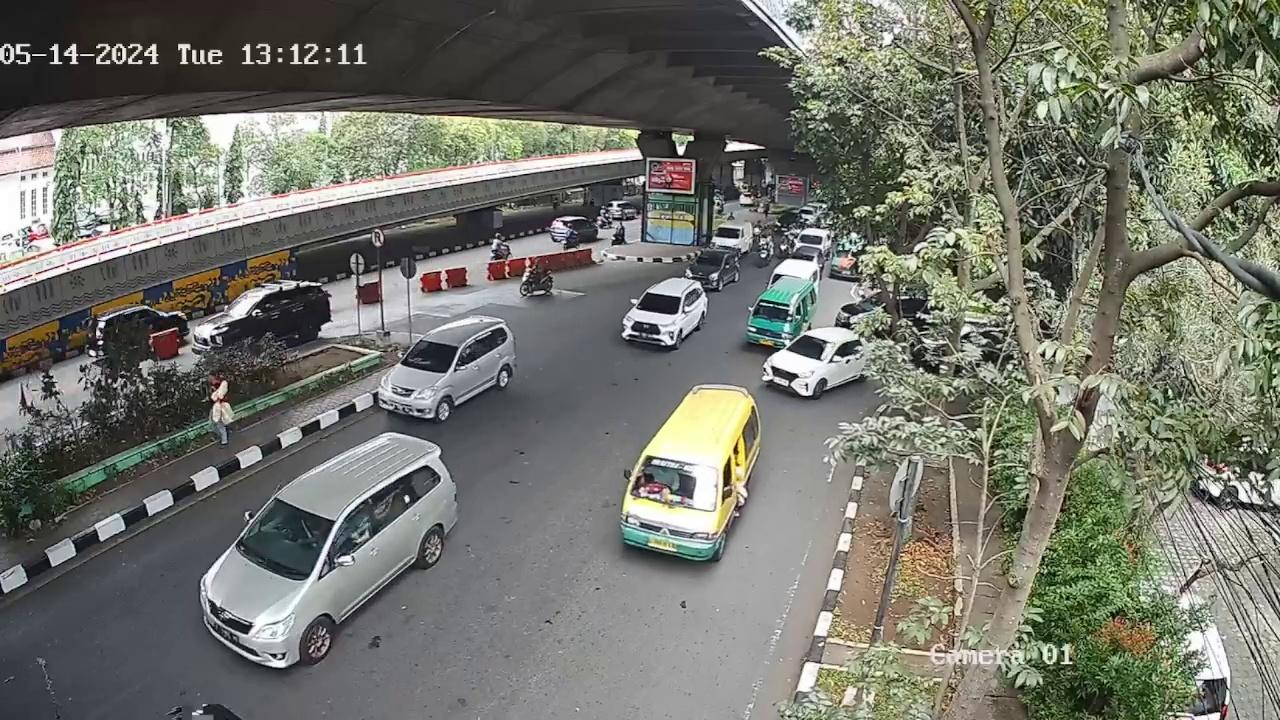pakai: (285, 509, 317, 544)
tidak-pakai: (649, 466, 679, 490)
windshield: (241, 499, 335, 574), (632, 453, 720, 513), (397, 342, 462, 368)
